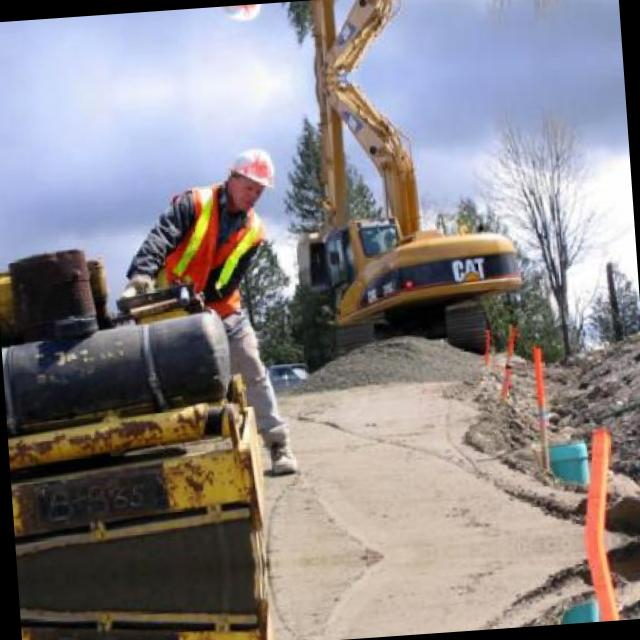helmet: (217, 140, 280, 211), (206, 3, 268, 32)
